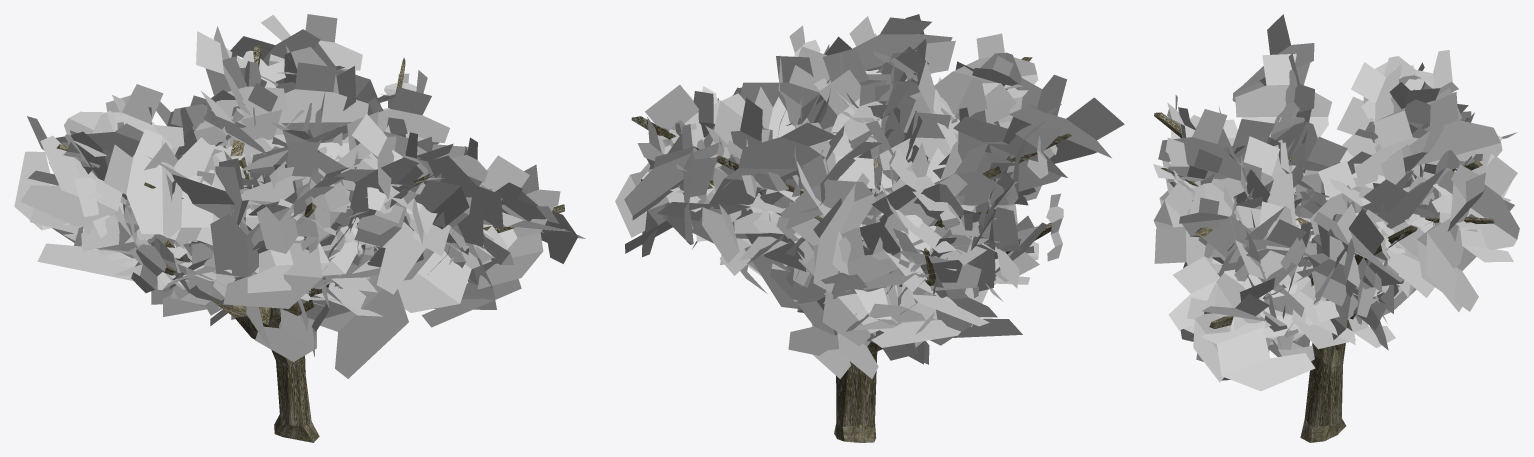
File: Arbol_06.fbx
3 renders of one model, left to right at view 1: azimuth 30°, elevation 25°; view 2: azimuth 150°, elevation 25°; view 3: azimuth 270°, elevation 25°, orthographic. The views are drawn at different scales.
Visible parts, largest first — view 1: Tree_Cañada01.007; view 2: Tree_Cañada01.007; view 3: Tree_Cañada01.007.
Boxes of the visible parts, bbox=[...] form: Tree_Cañada01.007: bbox=[14, 14, 585, 442]; Tree_Cañada01.007: bbox=[615, 14, 1124, 442]; Tree_Cañada01.007: bbox=[1153, 14, 1519, 442].
Size of the model in its own units: 44.46 by 32.92 by 33.
